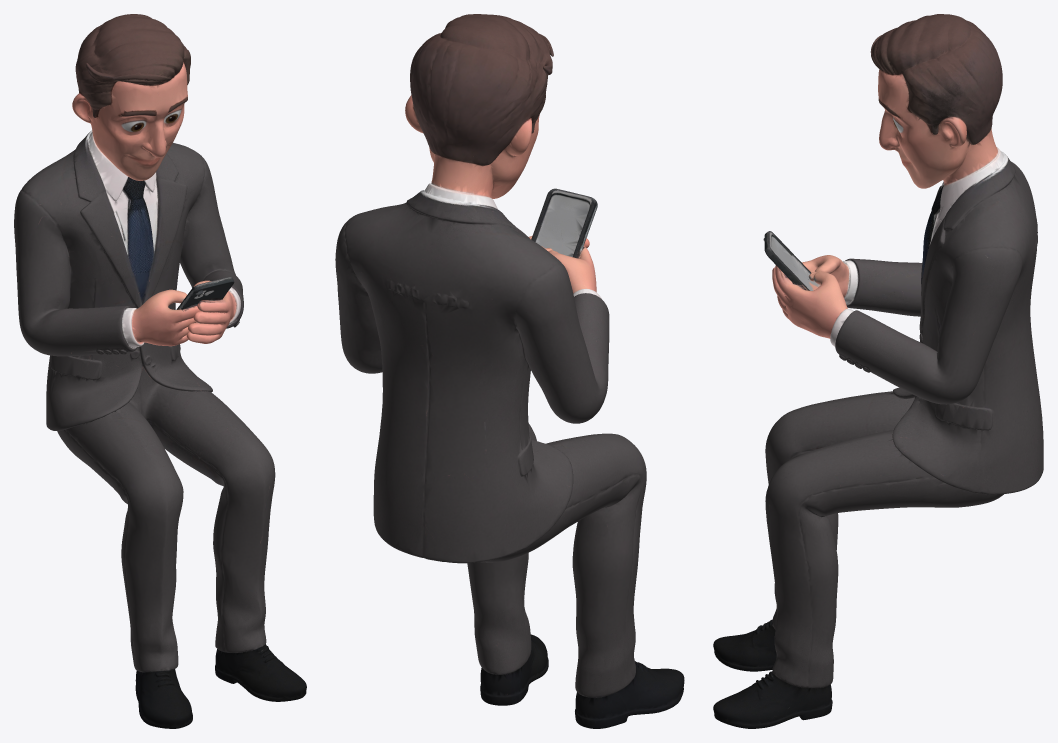
The model's file is user_c_seated_meshy.glb.
3 views of the same model, side by side, from view 1: azimuth 30°, elevation 25°; view 2: azimuth 150°, elevation 25°; view 3: azimuth 270°, elevation 25° (orthographic). The views are drawn at different scales.
Size of the model in its own units: 0.677 by 1.9 by 0.8537.
1 material, 1 textured.
